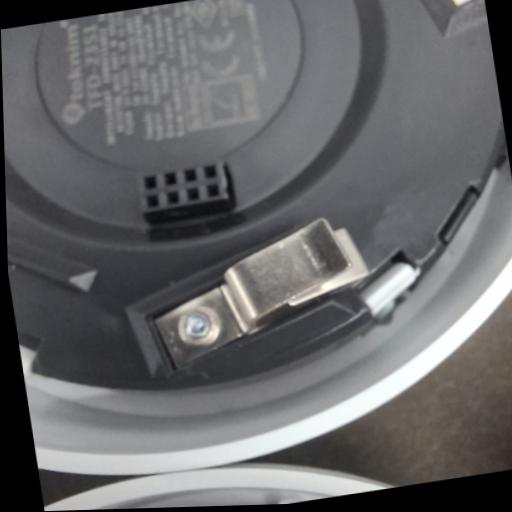yayli: (132, 207, 393, 378)
